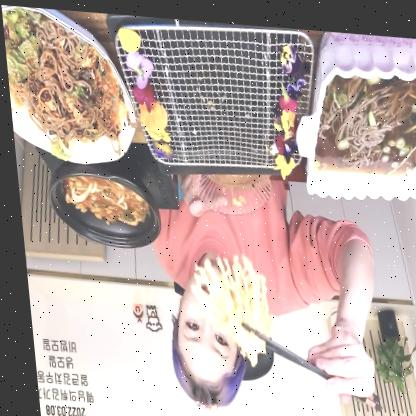streamer: (139, 166, 380, 416)
